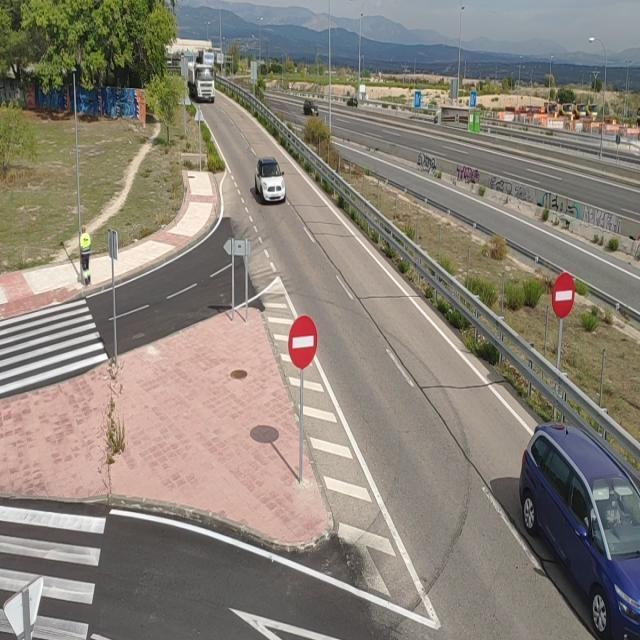Car: (517, 421, 640, 638), (254, 157, 286, 202), (302, 98, 318, 116), (346, 96, 358, 106)
Truck: (186, 60, 216, 102)
